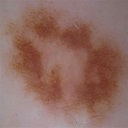Melanoma: (14, 16, 116, 102)
